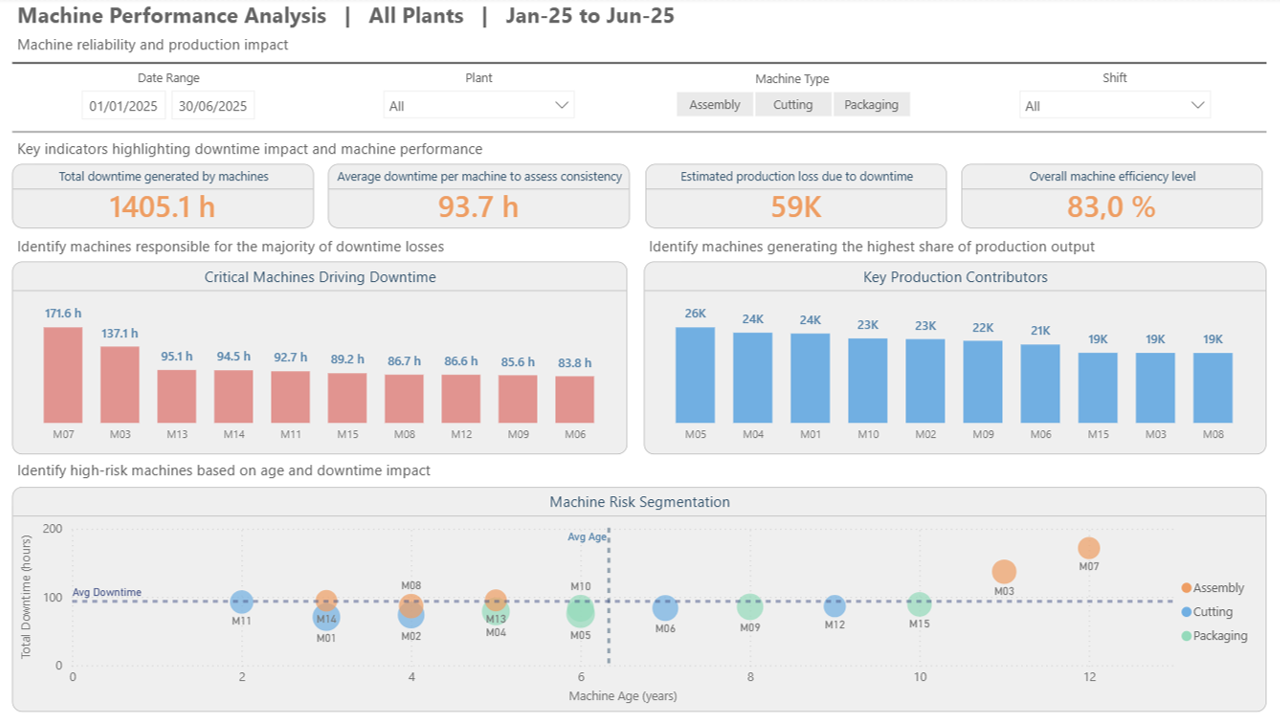

The dashboard page shown, as its layout file describes it:
{"tool":"powerbi","page":{"name":"Machine Performance","canvas":[1280,720],"ordinal":1},"visuals":[{"type":"textbox","box":[16,0,800,64],"z":0},{"type":"textbox","box":[16,230,576,32],"z":1000},{"type":"clusteredColumnChart","title":"Critical Machines Driving Downtime","fields":{"Category":["dim_machine.MachineID"],"Y":["KPI_Measures.Total Downtime (h)"]},"box":[16,262,612,192],"z":2000},{"type":"textbox","box":[645,230,480,32],"z":3000},{"type":"clusteredColumnChart","title":"Key Production Contributors","fields":{"Category":["dim_machine.MachineID"],"Y":["KPI_Measures.Total Production"]},"box":[645,262,619,192],"z":4000},{"type":"textbox","box":[16,453,560,32],"z":5000},{"type":"scatterChart","title":"Machine Risk Segmentation","fields":{"X":["Sum(Machine_Scatter.MachineAge)"],"Y":["Sum(Machine_Scatter.TotalDowntime)"],"Category":["Machine_Scatter.MachineID"],"Size":["Sum(Machine_Scatter.TotalProduction)"],"Series":["Machine_Scatter.MachineType"]},"box":[16,485,1248,224],"z":6000},{"type":"slicer","title":"Date Range","fields":{"Values":["Dim_Date.Date"]},"box":[76.7,70,188.3,65],"z":7000},{"type":"slicer","title":"Plant","fields":{"Values":["dim_plant.Plant"]},"box":[380,70,200,65],"z":8000},{"type":"slicer","title":"Machine Type","fields":{"Values":["dim_machine.MachineType"]},"box":[656,72,272,48],"z":9000},{"type":"slicer","title":"Shift","fields":{"Values":["Dim_Shift.Shift"]},"box":[1013.3,70,200,63.3],"z":10000},{"type":"shape","box":[16,55,1248,16],"z":11000},{"type":"shape","box":[16,124,1248,16],"z":12000},{"type":"card","title":"Total downtime generated by machines","fields":{"Values":["KPI_Measures.Total Downtime Label"]},"box":[16,165,300,64],"z":13000},{"type":"card","title":"Average downtime per machine to assess consistency","fields":{"Values":["KPI_Measures.Avg Downtime per Machine Label"]},"box":[330.7,165,300,64],"z":14000},{"type":"card","title":"Estimated production loss due to downtime","fields":{"Values":["KPI_Measures.Total Lost Production"]},"box":[645.3,165,300,64],"z":15000},{"type":"card","title":"Overall machine efficiency level","fields":{"Values":["KPI_Measures.Avg Production Efficiency"]},"box":[960,165,300,64],"z":16000},{"type":"textbox","box":[16,133,704,32],"z":17000}]}

Visuals, with their boxes in screenshot pixels (x1, y1, x2, y2), scaled from the page's 1280x720 canvas onto the 1280x717 screenshot:
textbox: (x1=16, y1=0, x2=816, y2=64)
textbox: (x1=16, y1=229, x2=592, y2=261)
"Critical Machines Driving Downtime" clusteredColumnChart: (x1=16, y1=261, x2=628, y2=452)
textbox: (x1=645, y1=229, x2=1125, y2=261)
"Key Production Contributors" clusteredColumnChart: (x1=645, y1=261, x2=1264, y2=452)
textbox: (x1=16, y1=451, x2=576, y2=483)
"Machine Risk Segmentation" scatterChart: (x1=16, y1=483, x2=1264, y2=706)
"Date Range" slicer: (x1=77, y1=70, x2=265, y2=134)
"Plant" slicer: (x1=380, y1=70, x2=580, y2=134)
"Machine Type" slicer: (x1=656, y1=72, x2=928, y2=120)
"Shift" slicer: (x1=1013, y1=70, x2=1213, y2=133)
shape: (x1=16, y1=55, x2=1264, y2=71)
shape: (x1=16, y1=123, x2=1264, y2=139)
"Total downtime generated by machines" card: (x1=16, y1=164, x2=316, y2=228)
"Average downtime per machine to assess consistency" card: (x1=331, y1=164, x2=631, y2=228)
"Estimated production loss due to downtime" card: (x1=645, y1=164, x2=945, y2=228)
"Overall machine efficiency level" card: (x1=960, y1=164, x2=1260, y2=228)
textbox: (x1=16, y1=132, x2=720, y2=164)
